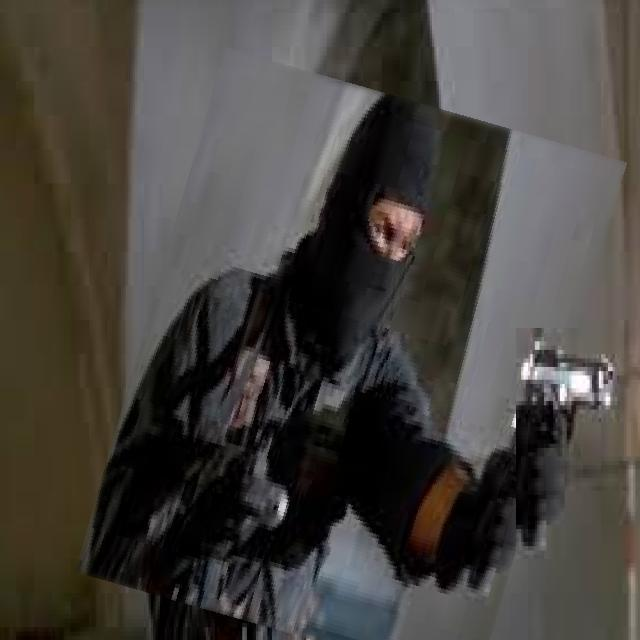Gun_Holder: (480, 322, 628, 451)
Jacket_Wearer: (118, 266, 450, 640)
Person: (106, 90, 530, 635)
